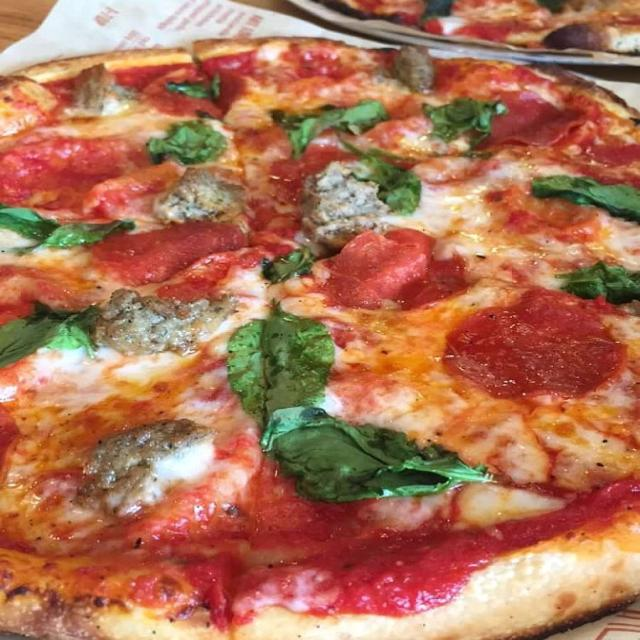basil: (264, 409, 496, 502), (231, 309, 333, 421), (0, 307, 102, 363), (533, 173, 640, 226), (278, 101, 387, 153), (353, 147, 424, 216), (144, 122, 228, 167), (562, 264, 640, 301), (39, 220, 135, 250), (423, 100, 501, 136), (0, 204, 54, 243), (268, 246, 311, 283), (172, 80, 224, 102)
pepperoni: (448, 292, 624, 398), (326, 231, 464, 310), (87, 222, 251, 286), (0, 135, 130, 206), (481, 94, 586, 150), (138, 70, 224, 120), (271, 151, 356, 183), (589, 142, 640, 169)
pizza: (0, 37, 640, 640)
